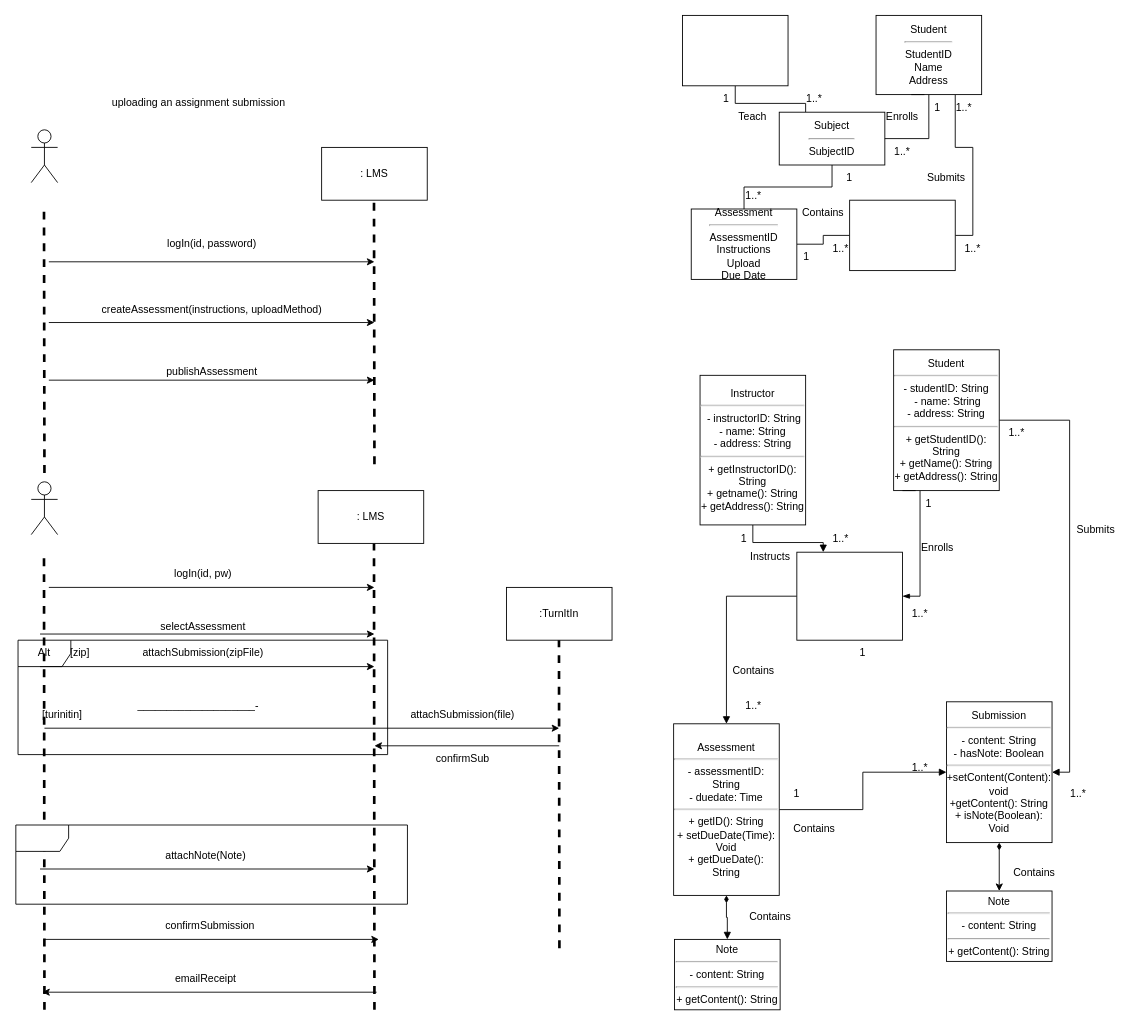
The diagram is 1137 pixels wide and 1027 high, and some of its shapes have lost their labels. The box of each missing label's shape, as (x1, y1, x2, y2) in pixels:
: Instructor: (30, 129, 58, 183)
: Student: (30, 481, 58, 535)
Instructor InstructorID Name Address: (682, 15, 788, 86)
opt: (15, 824, 407, 904)
Subject - subjectID: String + getSubjectID(): String: (796, 551, 902, 640)
Submission File Note: (849, 199, 955, 271)
